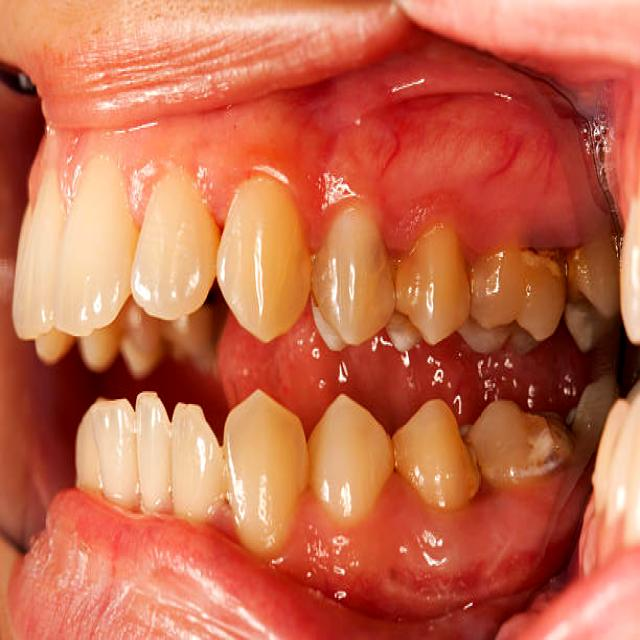gingivitis: (48, 45, 613, 255), (277, 469, 578, 617)
